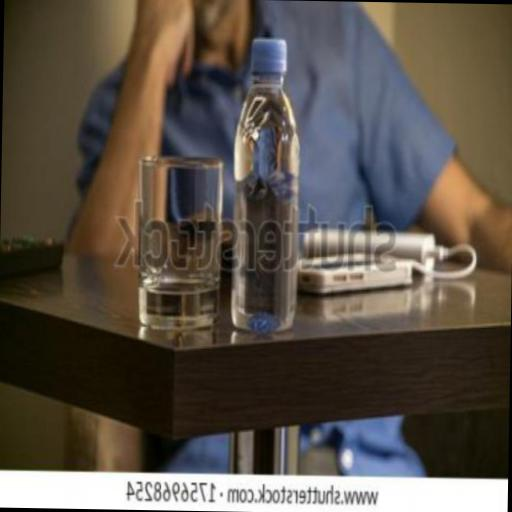Coca: (226, 31, 308, 337)
